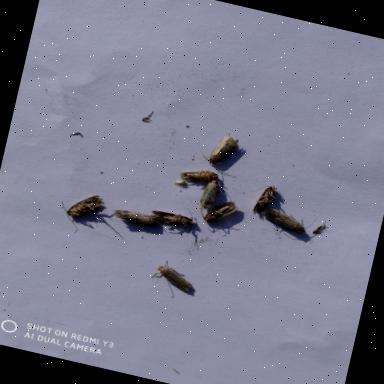pbw: (50, 182, 115, 238), (143, 258, 209, 310), (196, 124, 248, 174), (238, 174, 284, 224), (102, 204, 169, 238), (142, 201, 204, 236), (258, 202, 314, 240), (196, 192, 242, 232), (176, 160, 226, 192), (194, 173, 231, 215)
